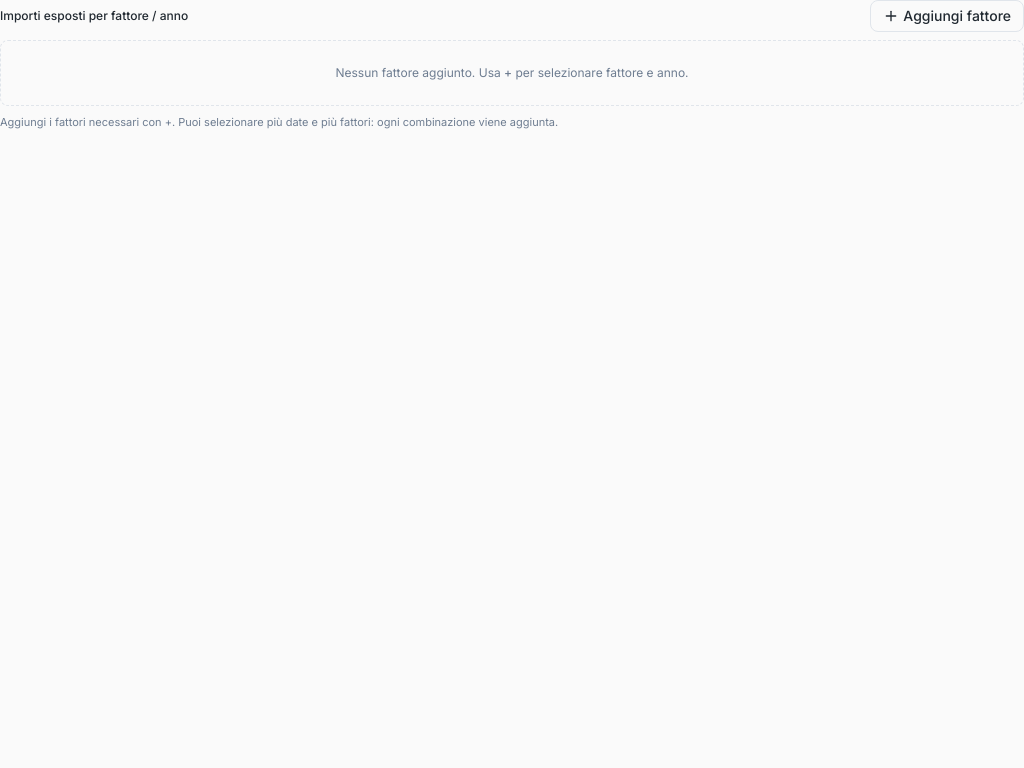
RegolazioneFattoriImportiGrid dialog › disabilita Aggiungi se manca la data o il fattore
This screenshot has width=1024, height=768.
Click the button "Aggiungi fattore" at [947, 16], box [870,0,1023,32]
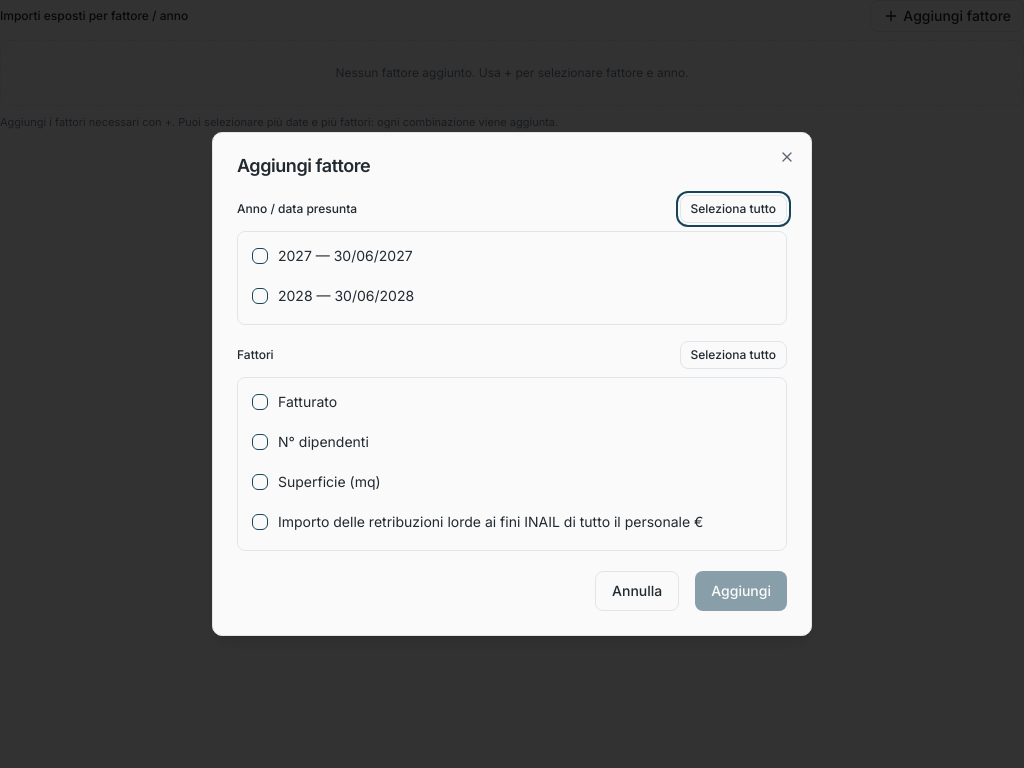
Check: the button "Aggiungi" is disabled, box [695,571,787,611]
Click the checkbox named "2027 — 30/06/2027" at [260, 256], box [252,248,268,264]
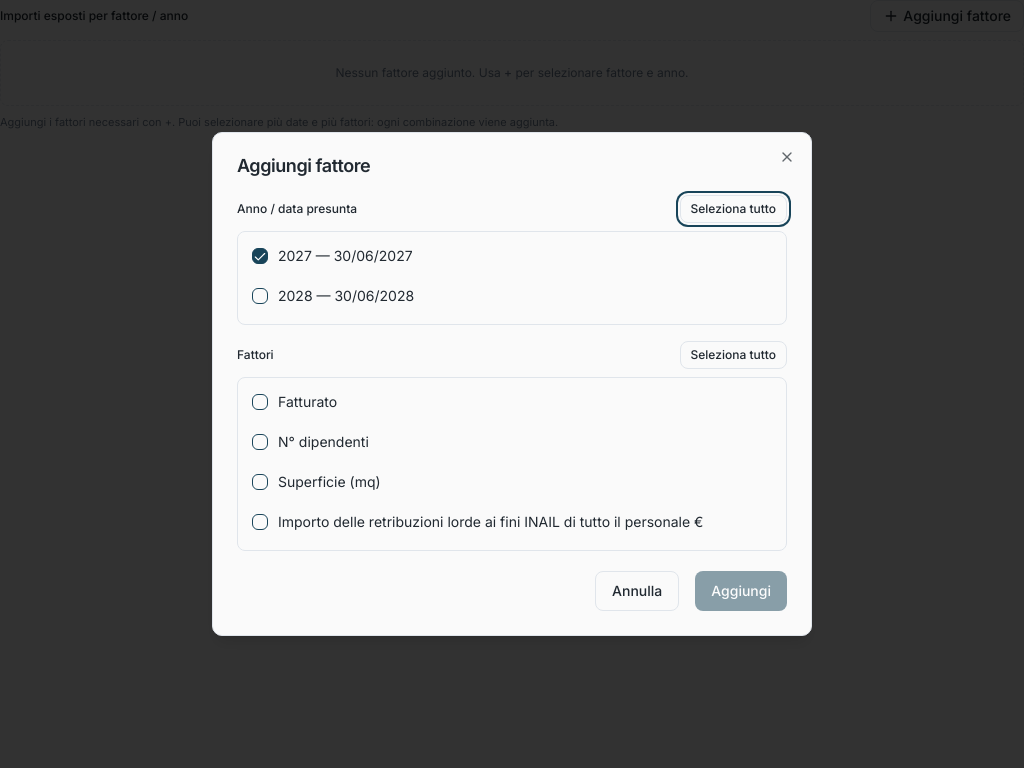
Check: the button "Aggiungi" is disabled, box [695,571,787,611]
Click the checkbox named "Fatturato" at [260, 402], box [252,394,268,410]
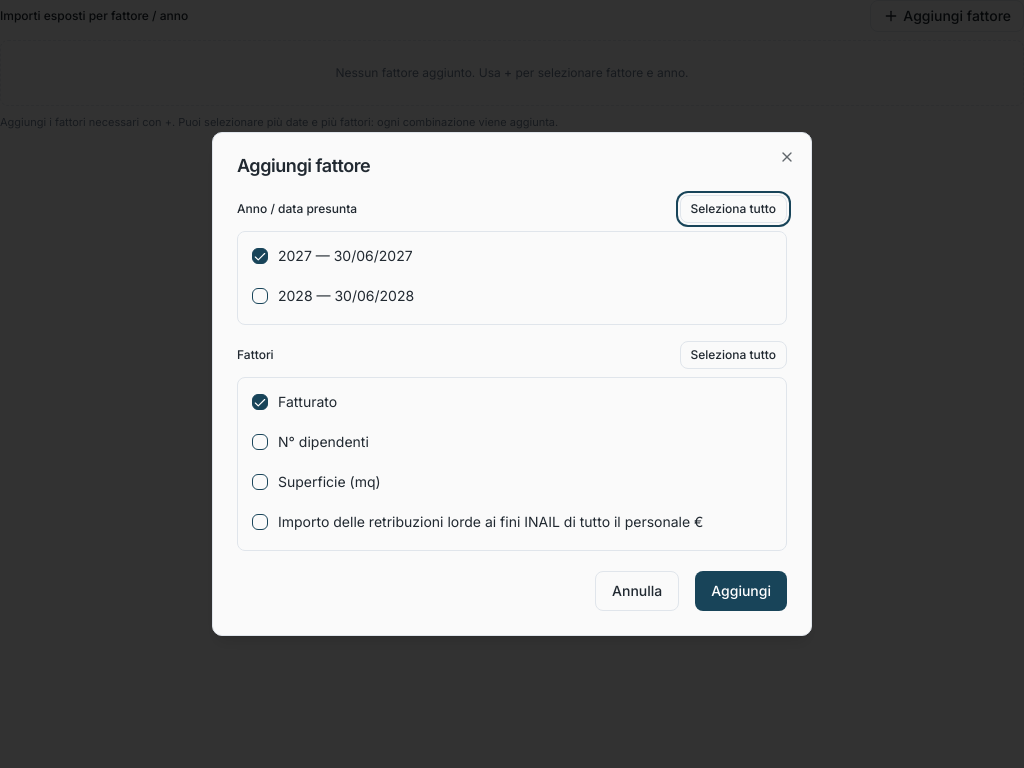
Check: the button "Aggiungi" is enabled, box [695,571,787,611]
